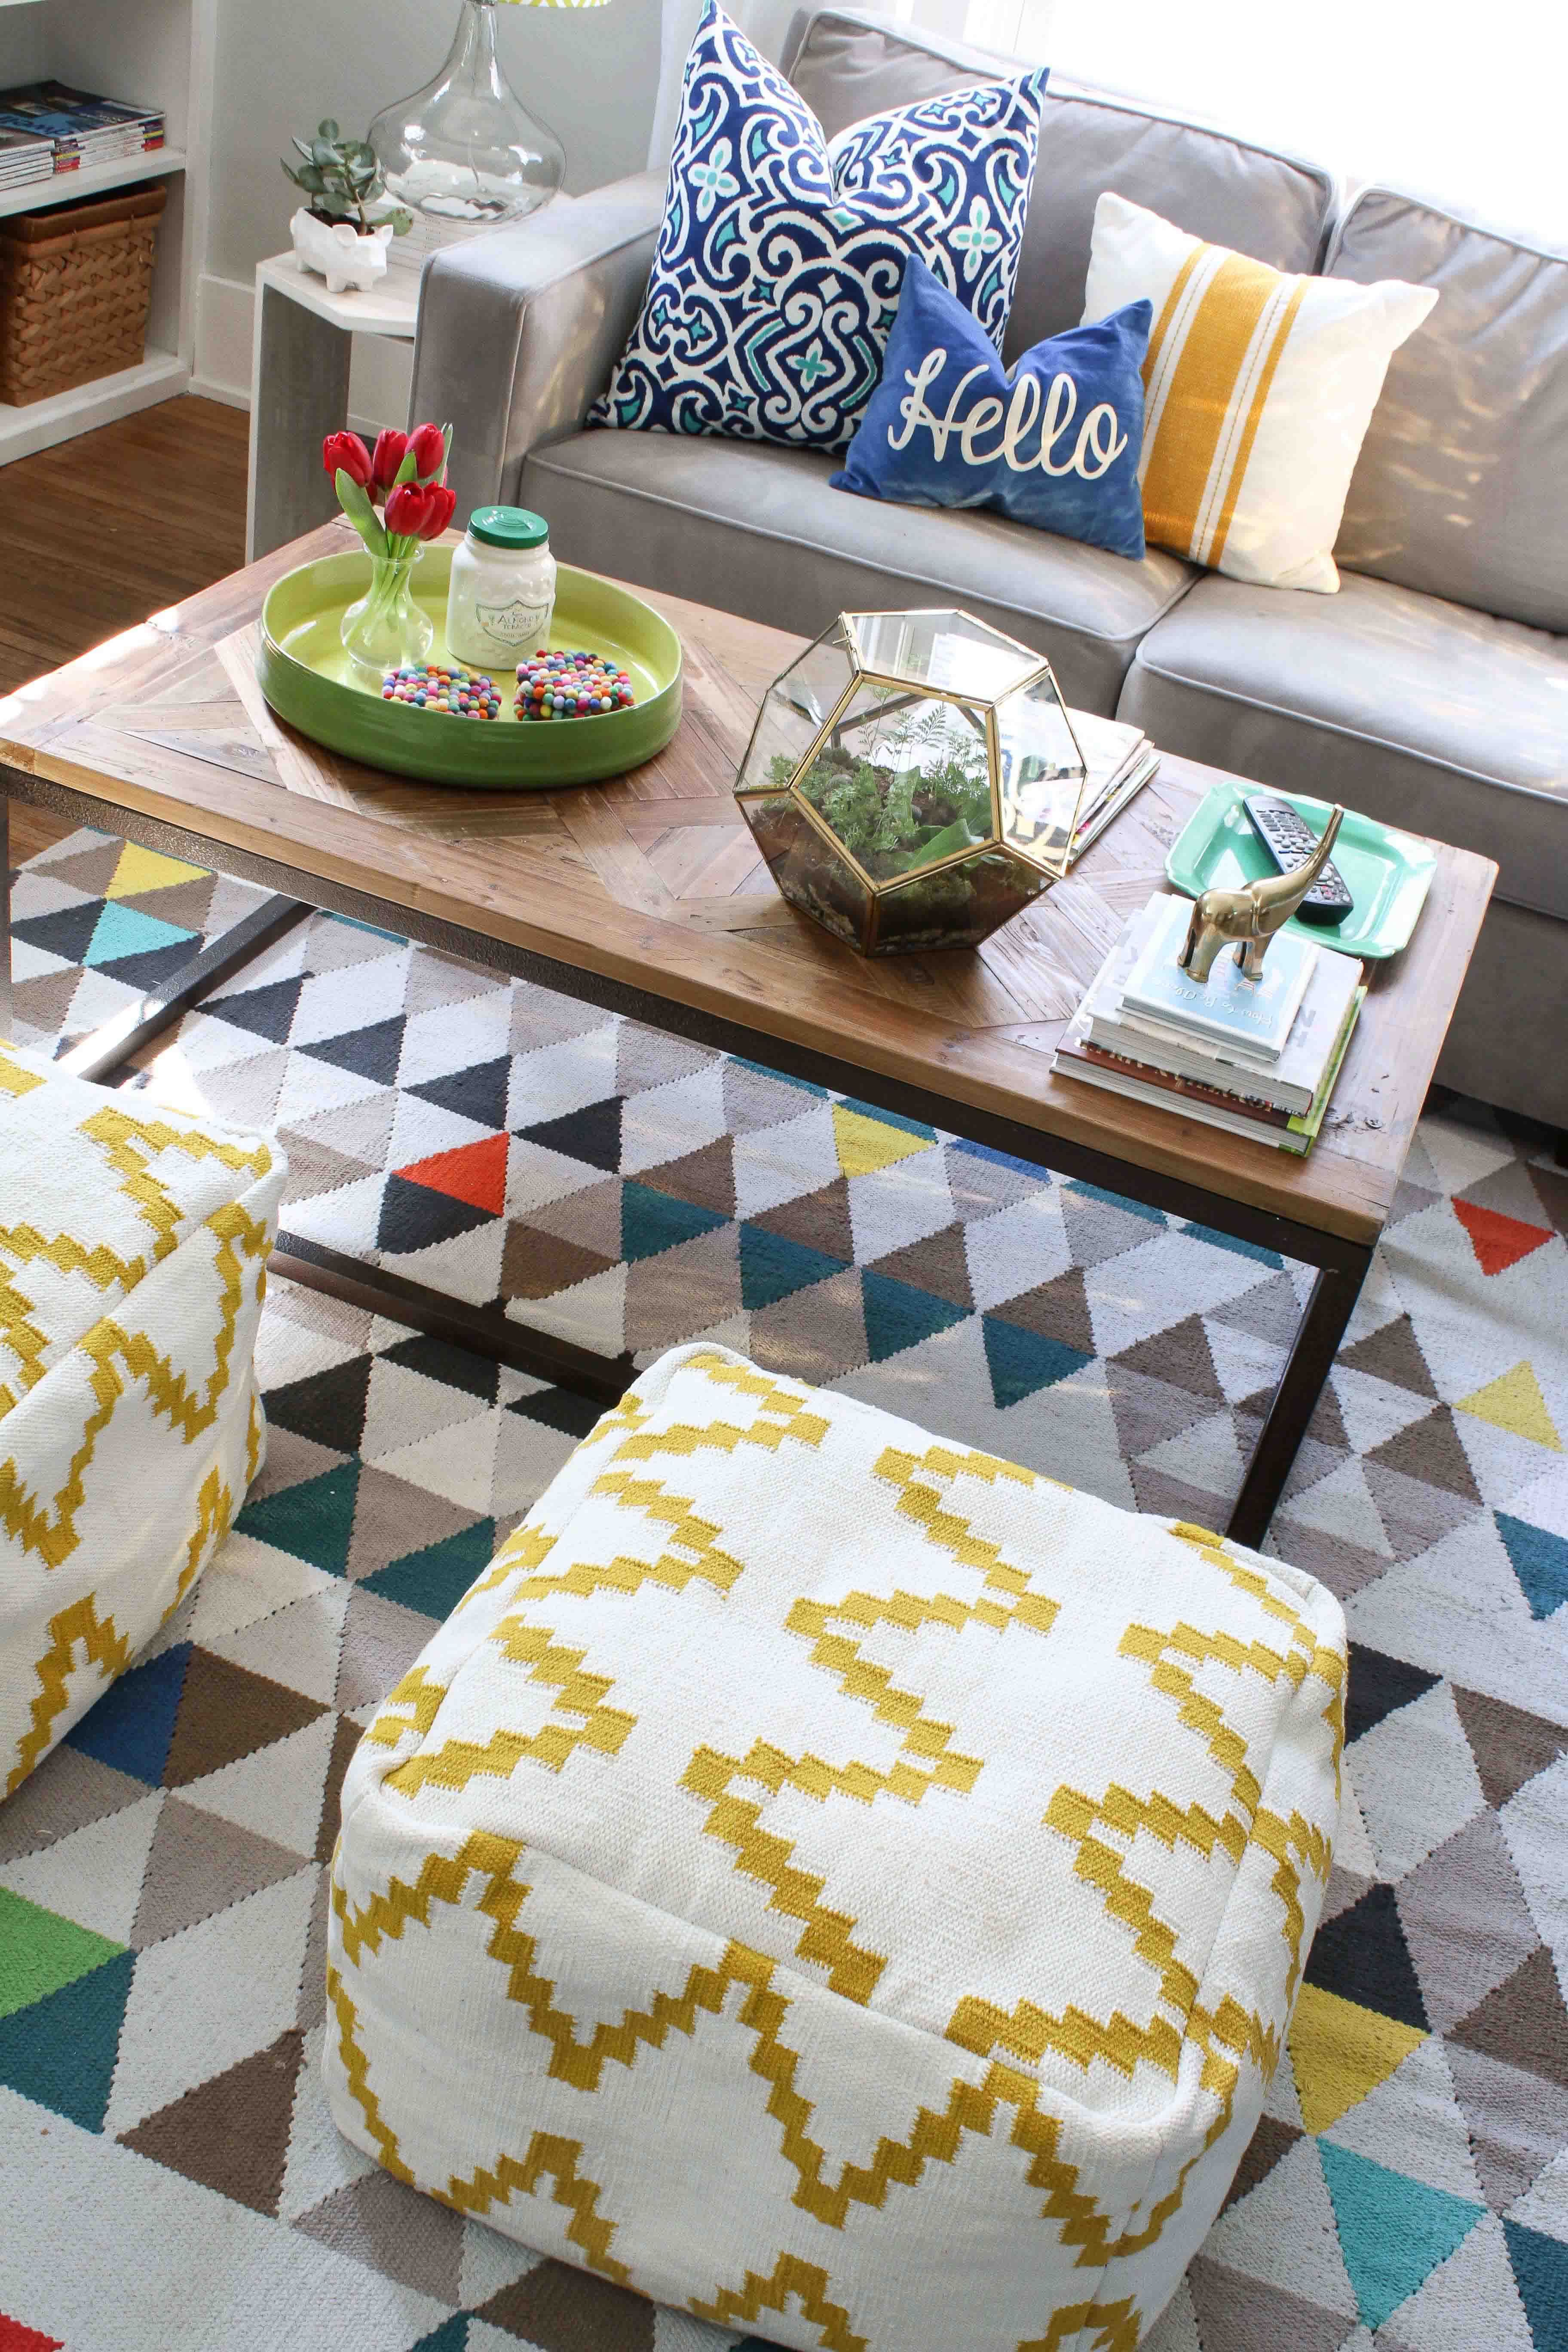biru: (885, 273, 1141, 539)
coklat: (5, 521, 1456, 1155)
hijau: (262, 546, 672, 772)
putih: (294, 226, 385, 276)
